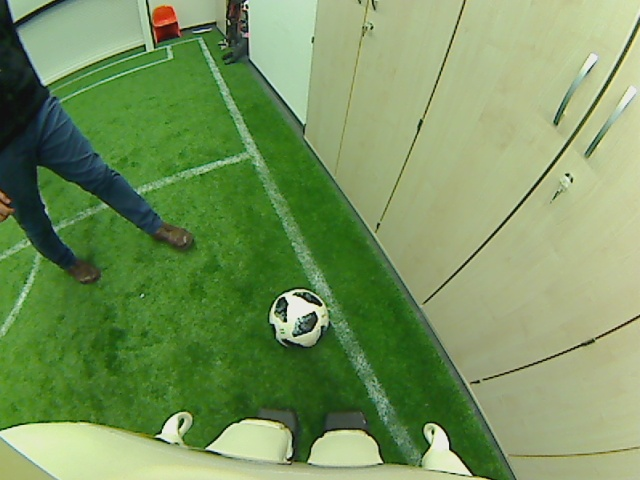ball: (267, 287, 328, 349)
